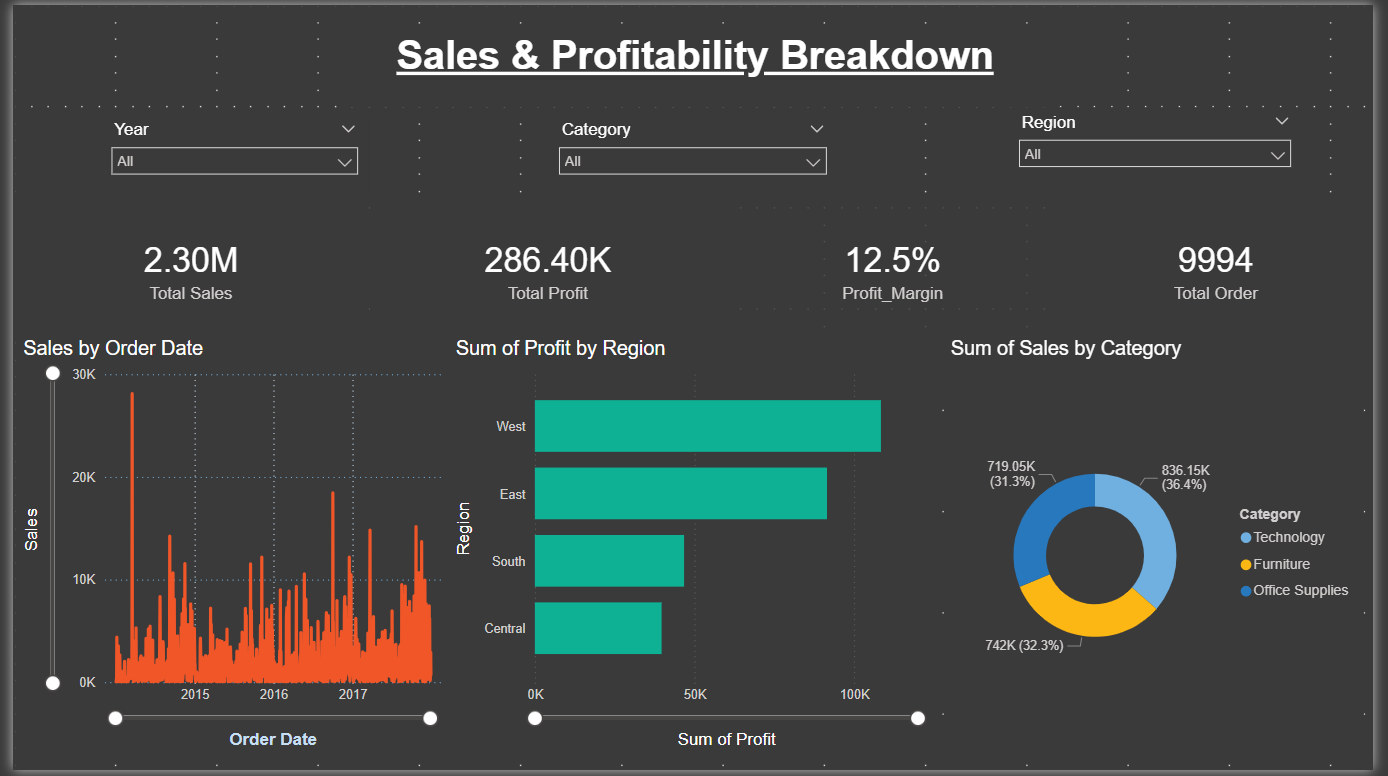

Layout of this report page (visuals, bound fields, positions):
{"tool":"powerbi","page":{"name":"Page 1","canvas":[1280,720],"ordinal":0},"visuals":[{"type":"card","fields":{"Values":["Sum(cleaned_superstore.Sales)"]},"box":[0,183.7,335.4,129.2],"z":0},{"type":"card","fields":{"Values":["Sum(cleaned_superstore.Profit)"]},"box":[335.4,183.7,336.6,129.2],"z":1000},{"type":"card","fields":{"Values":["CountNonNull(cleaned_superstore.Order ID)"]},"box":[984.9,183.7,295.1,129.2],"z":2000},{"type":"lineChart","fields":{"Y":["Sum(cleaned_superstore.Sales)"],"Category":["cleaned_superstore.Order Date"]},"box":[4.1,313,407.3,389.6],"z":3000},{"type":"clusteredBarChart","fields":{"Category":["cleaned_superstore.Region"],"Y":["Sum(cleaned_superstore.Profit)"]},"box":[411.4,313,460.1,389.6],"z":4000},{"type":"donutChart","fields":{"Category":["cleaned_superstore.Category"],"Y":["Sum(cleaned_superstore.Sales)"]},"box":[877.7,313,393.8,389.6],"z":5000},{"type":"slicer","fields":{"Values":["cleaned_superstore.Region"]},"box":[936,96.5,276.7,87.2],"z":6000},{"type":"slicer","fields":{"Values":["cleaned_superstore.Category"]},"box":[503.5,103.5,272.1,80.2],"z":7000},{"type":"slicer","fields":{"Values":["cleaned_superstore.Year"]},"box":[82.6,103.5,252.3,76.7],"z":8000},{"type":"card","fields":{"Values":["cleaned_superstore.Profit_Margin"]},"box":[672,183.7,312.9,129.2],"z":9000},{"type":"textbox","box":[308.1,20.9,667.4,75.6],"z":9001}]}

Visuals, with their boxes in screenshot pixels (x1, y1, x2, y2), scaled from the page's 1280x720 canvas onto the 1388x776 screenshot:
card - Sum(cleaned_superstore.Sales): {"x1": 0, "y1": 198, "x2": 364, "y2": 337}
card - Sum(cleaned_superstore.Profit): {"x1": 364, "y1": 198, "x2": 729, "y2": 337}
card - CountNonNull(cleaned_superstore.Order ID): {"x1": 1068, "y1": 198, "x2": 1387, "y2": 337}
lineChart - Sum(cleaned_superstore.Sales) x cleaned_superstore.Order Date: {"x1": 4, "y1": 337, "x2": 446, "y2": 757}
clusteredBarChart - cleaned_superstore.Region x Sum(cleaned_superstore.Profit): {"x1": 446, "y1": 337, "x2": 945, "y2": 757}
donutChart - cleaned_superstore.Category x Sum(cleaned_superstore.Sales): {"x1": 952, "y1": 337, "x2": 1379, "y2": 757}
slicer - cleaned_superstore.Region: {"x1": 1015, "y1": 104, "x2": 1315, "y2": 198}
slicer - cleaned_superstore.Category: {"x1": 546, "y1": 112, "x2": 841, "y2": 198}
slicer - cleaned_superstore.Year: {"x1": 90, "y1": 112, "x2": 363, "y2": 194}
card - cleaned_superstore.Profit_Margin: {"x1": 729, "y1": 198, "x2": 1068, "y2": 337}
textbox: {"x1": 334, "y1": 23, "x2": 1058, "y2": 104}
